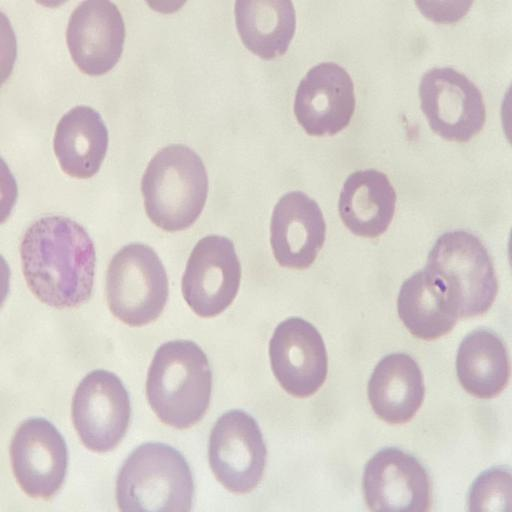Infected: (20, 214, 95, 306)
Uninfected: (140, 144, 209, 229), (145, 340, 212, 426), (428, 233, 495, 316), (115, 444, 192, 511), (105, 244, 168, 325), (418, 66, 485, 141), (268, 318, 328, 395), (182, 235, 240, 314), (72, 371, 130, 450), (9, 418, 67, 497), (208, 411, 265, 491), (399, 268, 463, 337), (294, 62, 355, 134), (66, 1, 125, 74), (269, 192, 326, 267), (362, 449, 429, 511), (338, 170, 397, 238), (53, 106, 108, 177), (367, 354, 424, 421), (454, 330, 507, 396), (235, 1, 294, 57)
